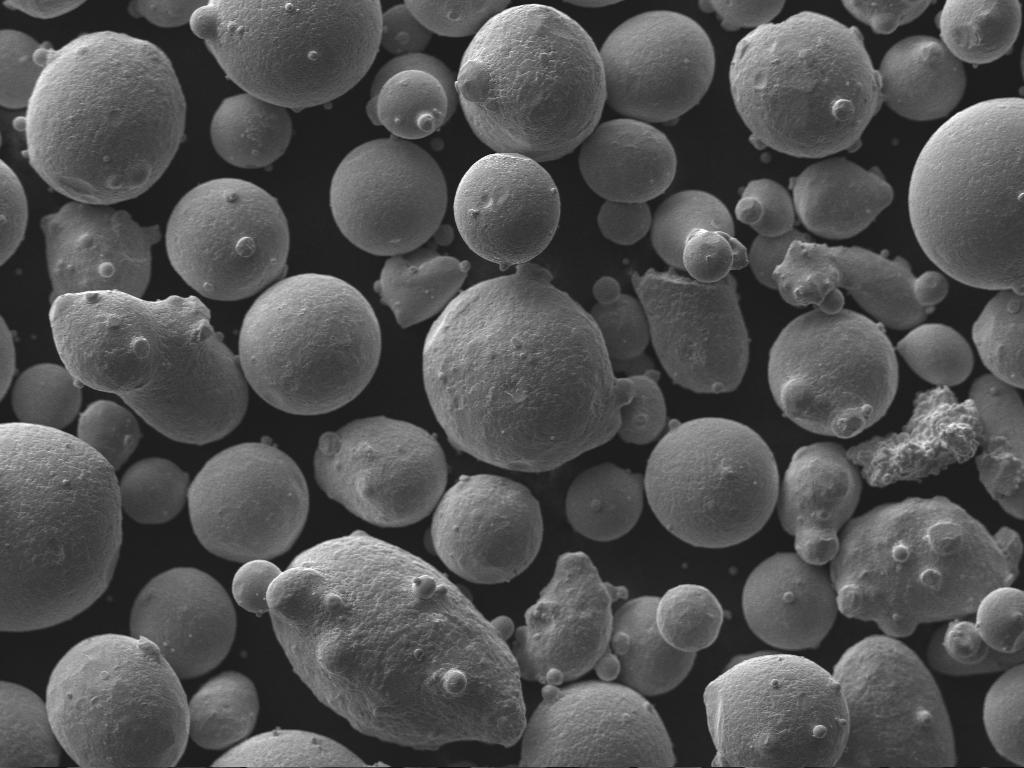Powder: (234, 530, 526, 750), (422, 264, 632, 471), (50, 290, 248, 443), (14, 30, 186, 203), (830, 496, 1024, 637), (0, 422, 122, 632), (456, 4, 606, 161), (908, 98, 1024, 294), (730, 12, 882, 158), (190, 0, 382, 110), (238, 274, 382, 415), (46, 634, 190, 766), (646, 418, 780, 548), (768, 310, 898, 437), (704, 654, 850, 766), (834, 636, 956, 765), (512, 552, 628, 686), (772, 240, 946, 329), (166, 178, 290, 301), (314, 416, 448, 528), (632, 268, 750, 393), (188, 442, 308, 563), (846, 386, 984, 487), (330, 138, 448, 256), (520, 680, 676, 767), (424, 474, 544, 584), (600, 10, 714, 122), (610, 584, 724, 696), (454, 154, 560, 269), (130, 568, 236, 678), (40, 202, 160, 299), (778, 442, 862, 565), (742, 552, 838, 650), (650, 190, 748, 283), (928, 588, 1024, 676), (794, 158, 894, 240), (578, 118, 676, 201), (366, 52, 458, 139), (374, 246, 470, 328), (970, 374, 1024, 519), (882, 36, 966, 121), (566, 462, 644, 542), (212, 728, 368, 768), (210, 94, 292, 167), (190, 670, 260, 750), (940, 0, 1022, 63), (972, 290, 1024, 389), (0, 680, 60, 765), (896, 324, 974, 386), (590, 276, 648, 359), (120, 458, 190, 524), (78, 400, 142, 470), (12, 364, 82, 427), (984, 664, 1024, 765), (404, 1, 510, 38), (748, 230, 810, 290), (734, 180, 796, 237), (0, 30, 42, 109), (618, 376, 666, 443), (842, 1, 932, 34), (1, 160, 28, 265), (698, 1, 786, 31), (382, 4, 432, 54), (598, 200, 652, 245), (128, 1, 206, 28), (4, 1, 86, 19), (1, 316, 16, 399), (432, 224, 456, 247), (564, 1, 622, 8)
